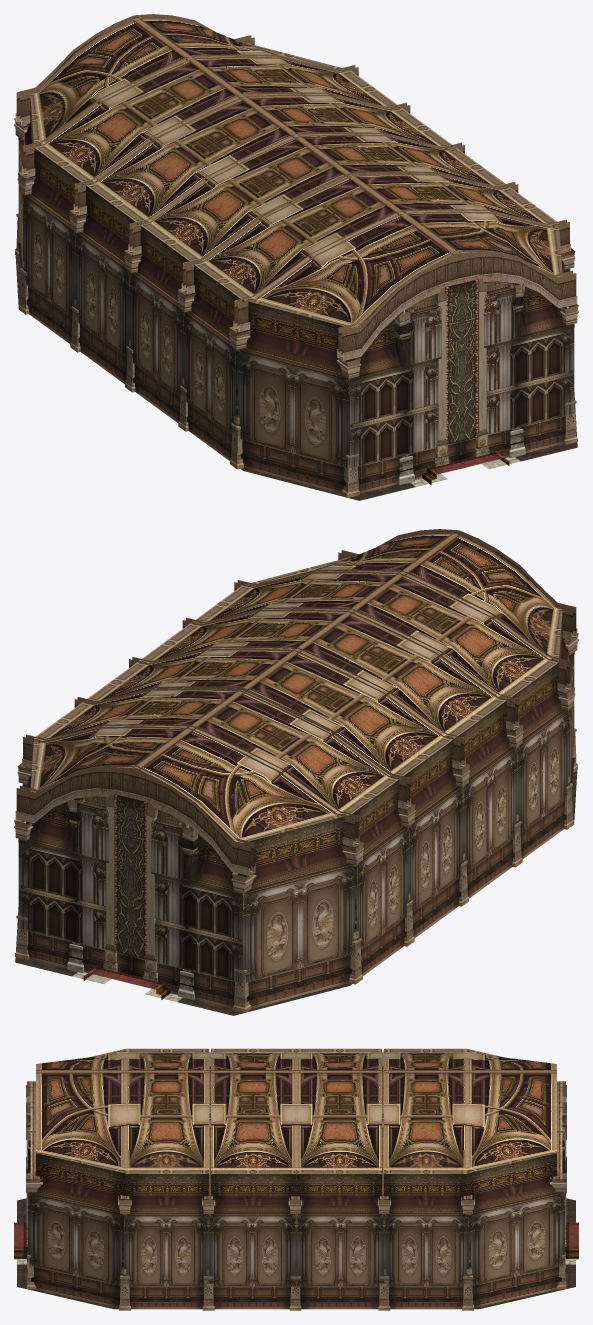
File: AudienceRoom_master.fbx
The picture shows the model from 3 angles, top to bottom: view 1: azimuth 30°, elevation 25°; view 2: azimuth 150°, elevation 25°; view 3: azimuth 270°, elevation 25°; orthographic projection. The views are drawn at different scales.
Visible parts, largest first — view 1: Wall014, Wall015, Ceiling010, Wall012, Wall017, Ceiling009, Ceiling012, Ceiling008, Ceiling011, Ceiling007, keels012, keels013 (+19 smaller); view 2: Wall009, Wall010, Ceiling007, Wall012, Wall017, Ceiling009, Ceiling012, Ceiling011, Ceiling008, Ceiling010, keels008, keels009 (+19 smaller); view 3: Wall013, Wall018, Wall011, Wall016, Ceiling009, Ceiling012, Ceiling008, Ceiling011, Ceiling007, Ceiling010, Floor003, Pillar_S024 (+10 smaller).
Part boxes in pixels (bbox=[...]): Wall014: bbox=[350, 278, 574, 493]; Wall015: bbox=[235, 300, 350, 493]; Ceiling010: bbox=[243, 210, 562, 327]; Wall012: bbox=[23, 148, 138, 383]; Wall017: bbox=[129, 224, 243, 460]; Ceiling009: bbox=[86, 96, 455, 223]; Ceiling012: bbox=[138, 134, 505, 261]; Ceiling008: bbox=[34, 58, 400, 184]; Ceiling011: bbox=[192, 174, 556, 298]; Ceiling007: bbox=[30, 19, 347, 146]; keels012: bbox=[337, 250, 577, 360]; keels013: bbox=[233, 209, 570, 332]; Wall009: bbox=[18, 793, 242, 1008]; Wall010: bbox=[242, 815, 357, 1008]; Ceiling007: bbox=[30, 725, 349, 842]; Wall012: bbox=[349, 739, 463, 975]; Wall017: bbox=[455, 663, 569, 897]; Ceiling009: bbox=[87, 649, 454, 776]; Ceiling012: bbox=[139, 611, 506, 737]; Ceiling011: bbox=[192, 573, 558, 699]; Ceiling008: bbox=[36, 689, 400, 813]; Ceiling010: bbox=[245, 534, 562, 661]; keels008: bbox=[15, 765, 255, 875]; keels009: bbox=[22, 724, 359, 847]; Wall013: bbox=[296, 1174, 468, 1309]; Wall018: bbox=[124, 1174, 296, 1309]; Wall011: bbox=[466, 1153, 565, 1307]; Wall016: bbox=[27, 1153, 126, 1307]; Ceiling009: bbox=[295, 1048, 381, 1173]; Ceiling012: bbox=[211, 1048, 297, 1173]; Ceiling008: bbox=[383, 1048, 466, 1173]; Ceiling011: bbox=[126, 1048, 209, 1173]; Ceiling007: bbox=[465, 1048, 556, 1173]; Ceiling010: bbox=[36, 1048, 127, 1173]; Floor003: bbox=[17, 1198, 575, 1309]; Pillar_S024: bbox=[461, 1195, 474, 1310].
Bounding box in the file's own units: 1476 × 895 × 2632.
